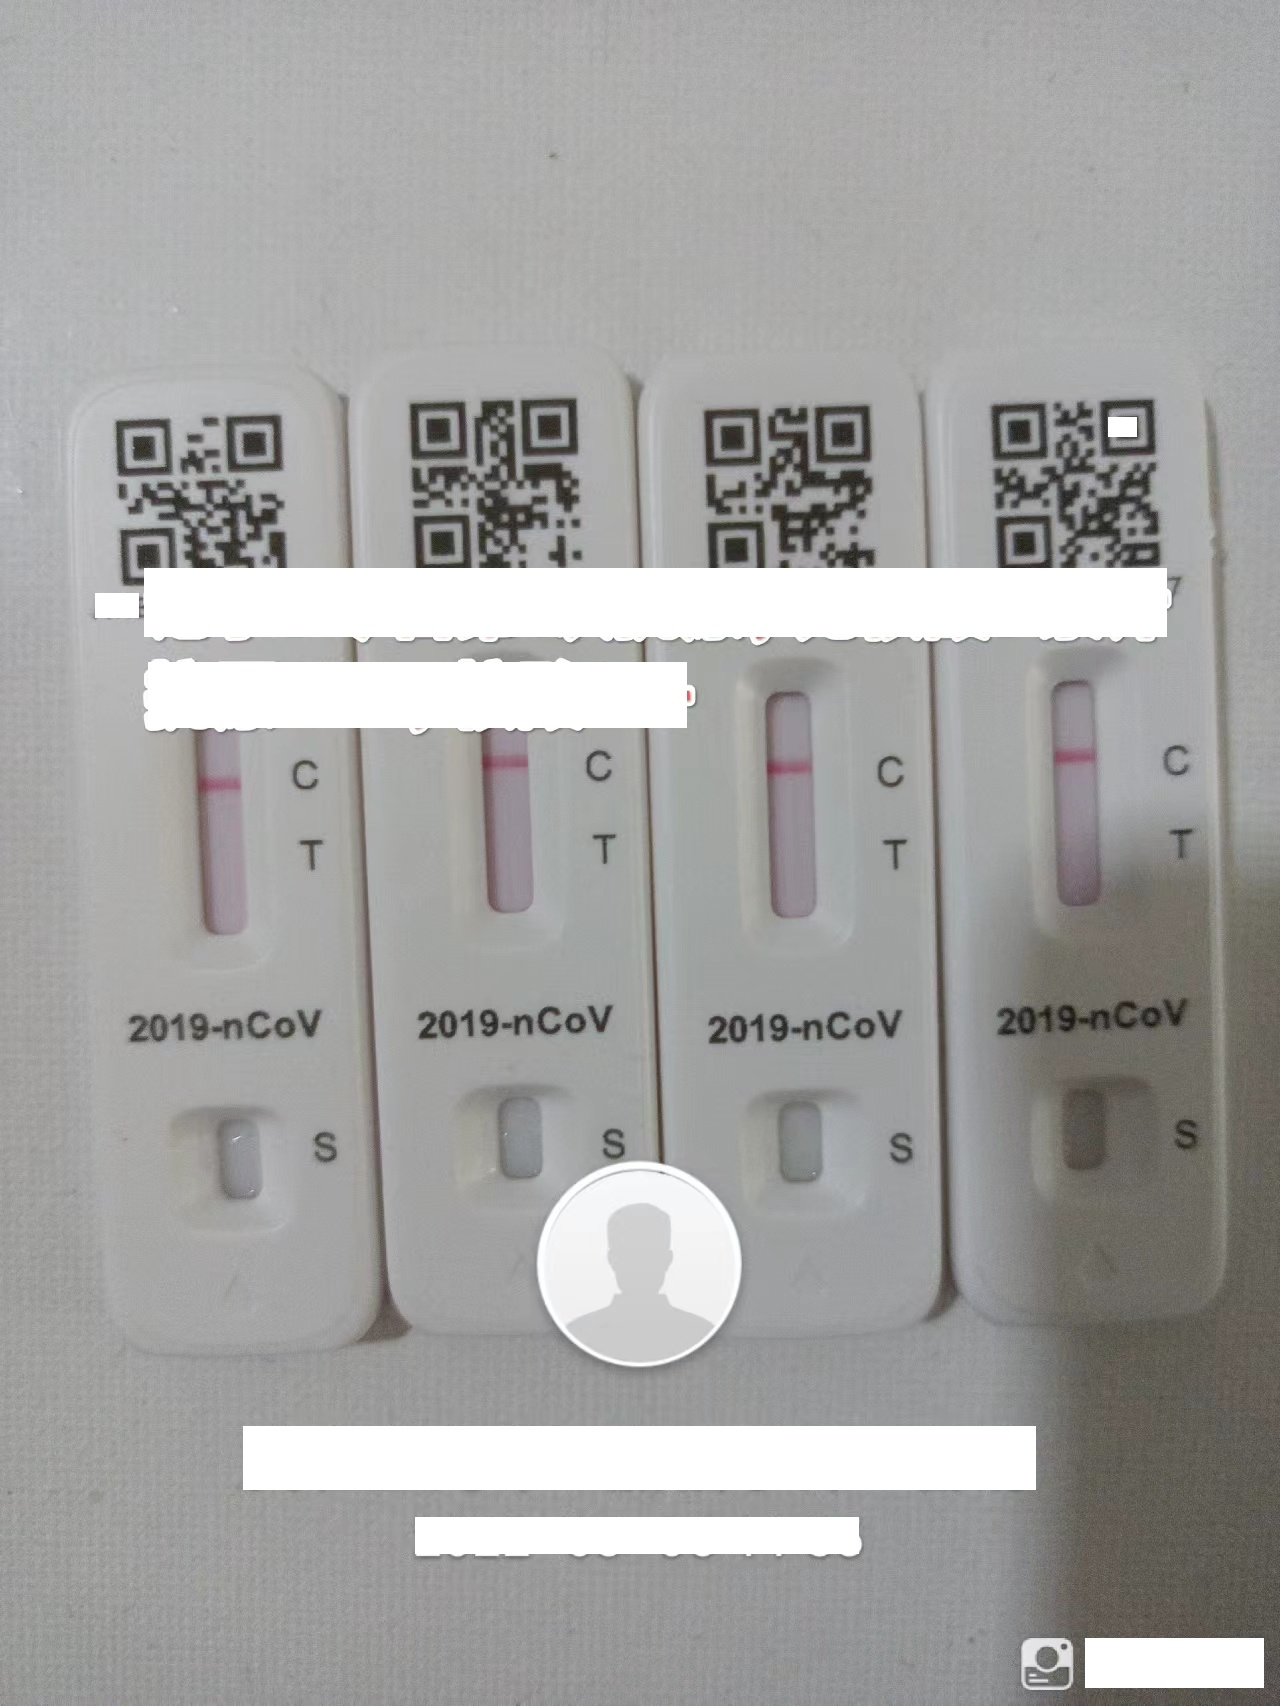negative: (742, 663, 844, 949), (1027, 656, 1125, 928), (184, 741, 264, 942), (467, 738, 549, 924)
